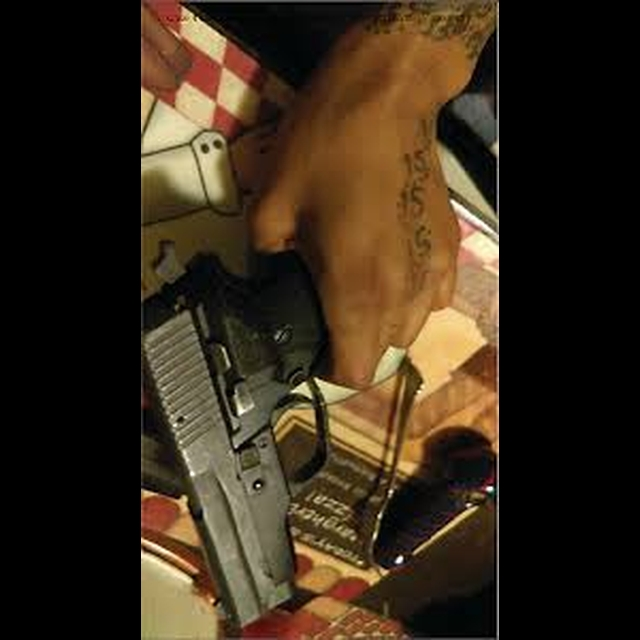SILAH: (149, 192, 421, 624)
